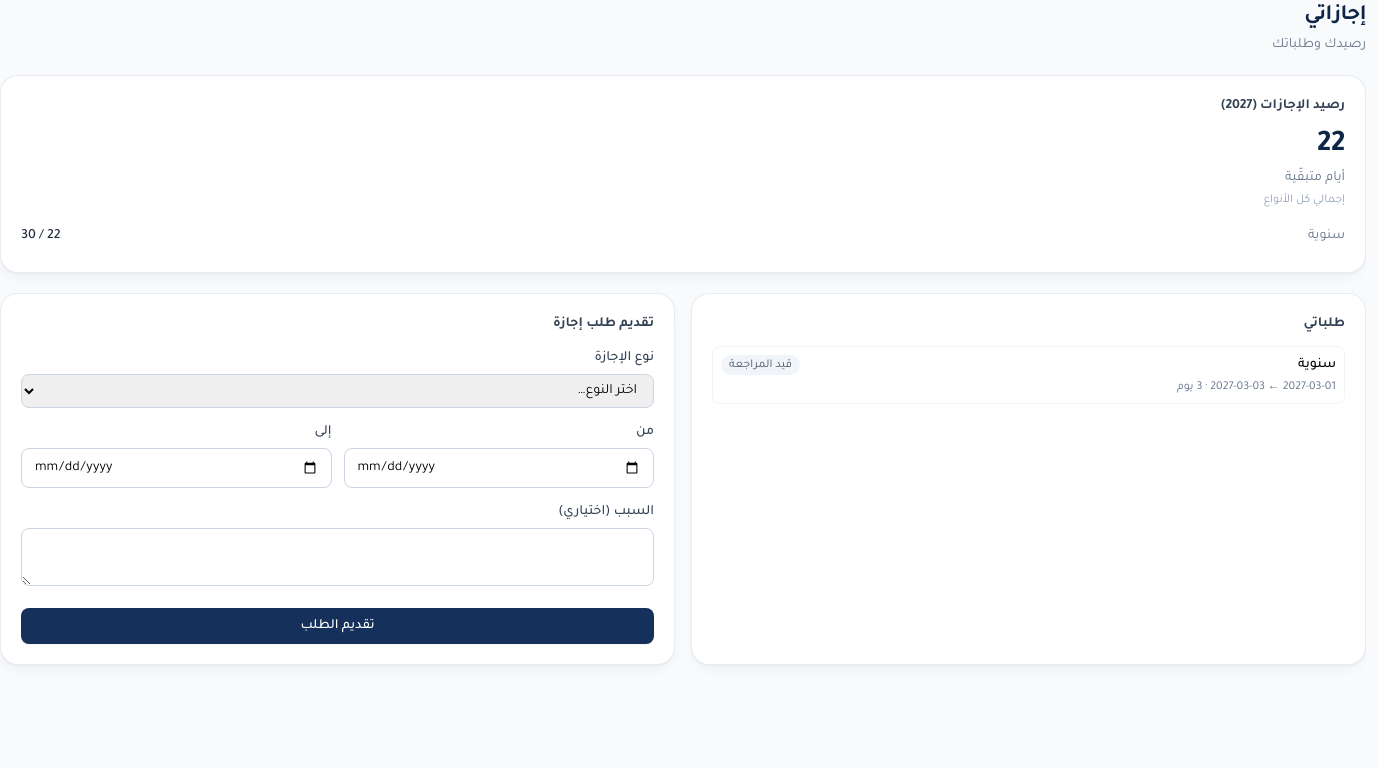
LeavePage › يعرض أخطاء التحقّق (422)
The width and height of the screenshot is (1378, 768).
Select "سنوية" in the dropdown labelled "نوع الإجازة" at [338, 391], box [21,374,654,408]
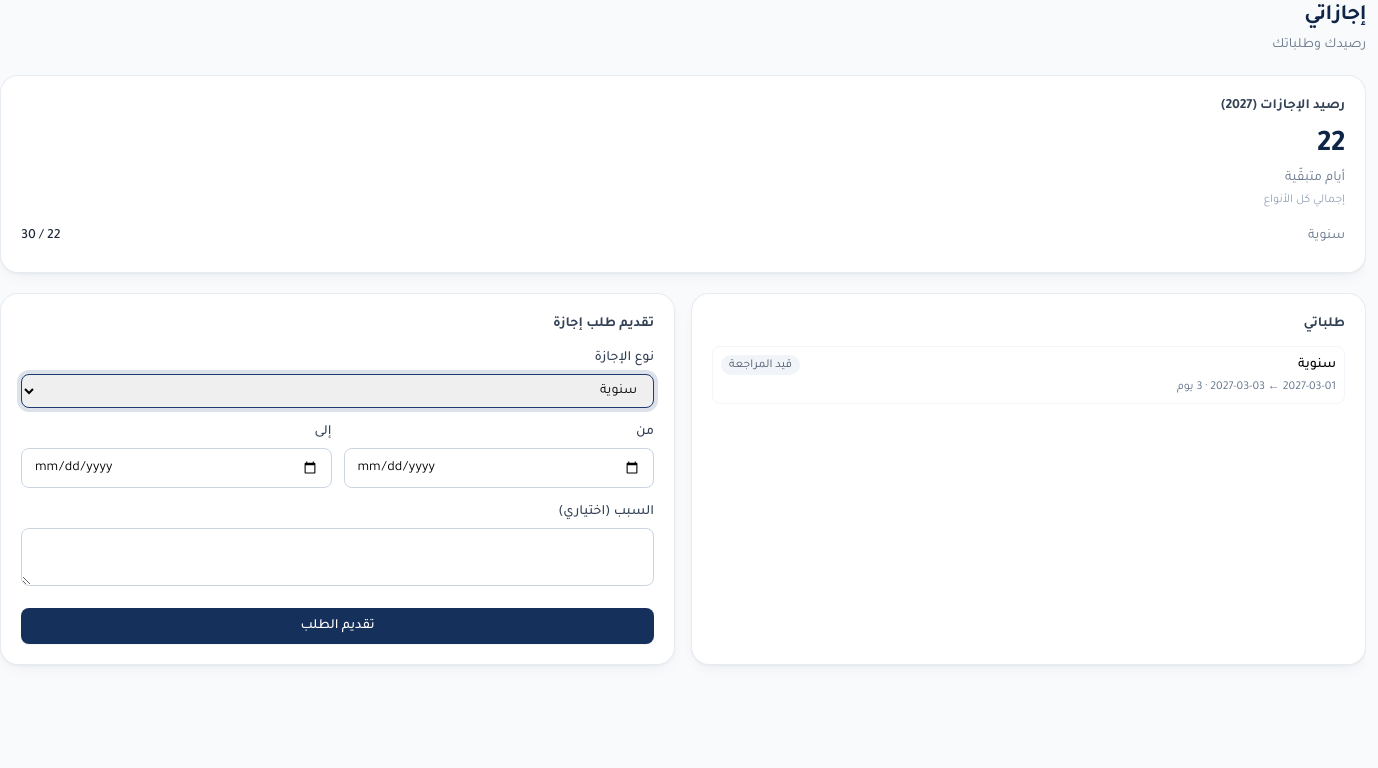
Type "2027-03-01" into the date field labelled "من" at [499, 468], box [344,448,654,488]
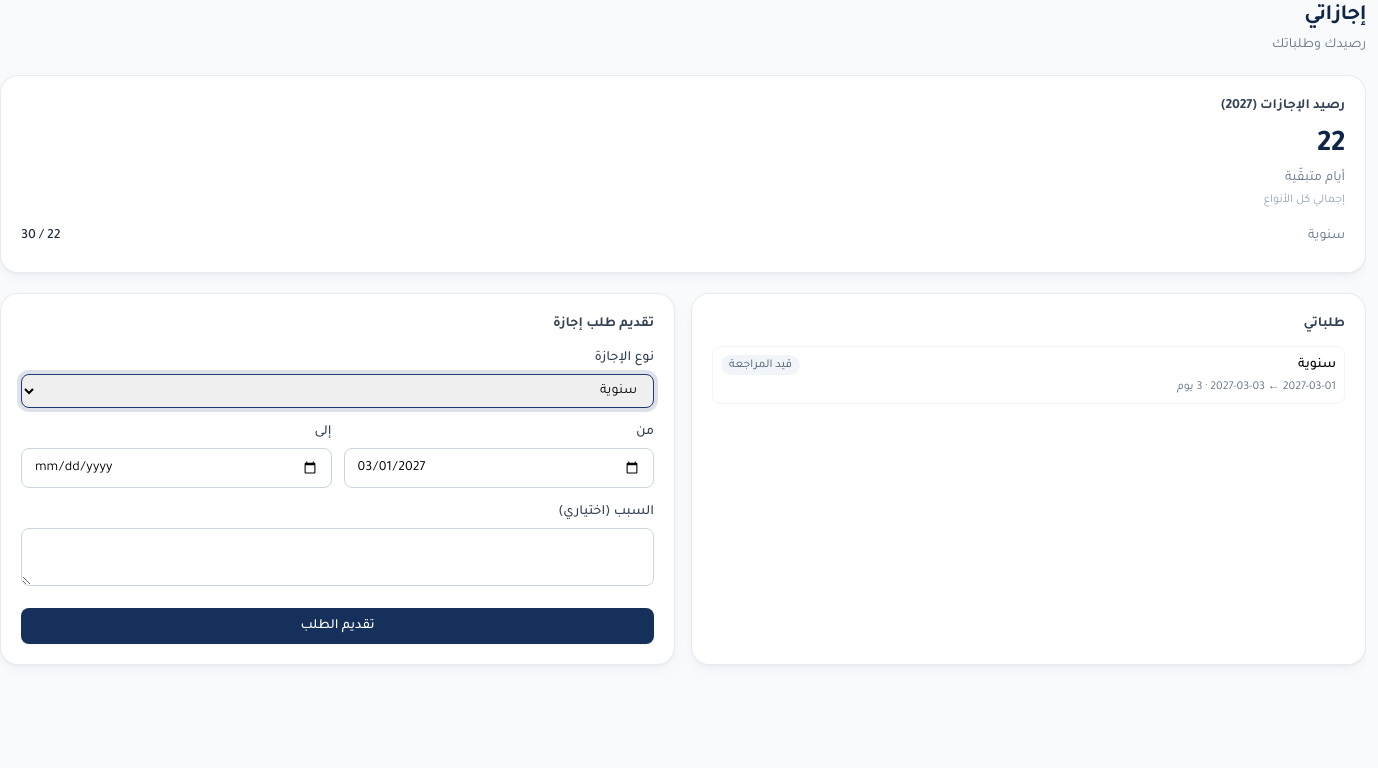
Type "2027-03-03" into the date field labelled "إلى" at [176, 468], box [21,448,332,488]
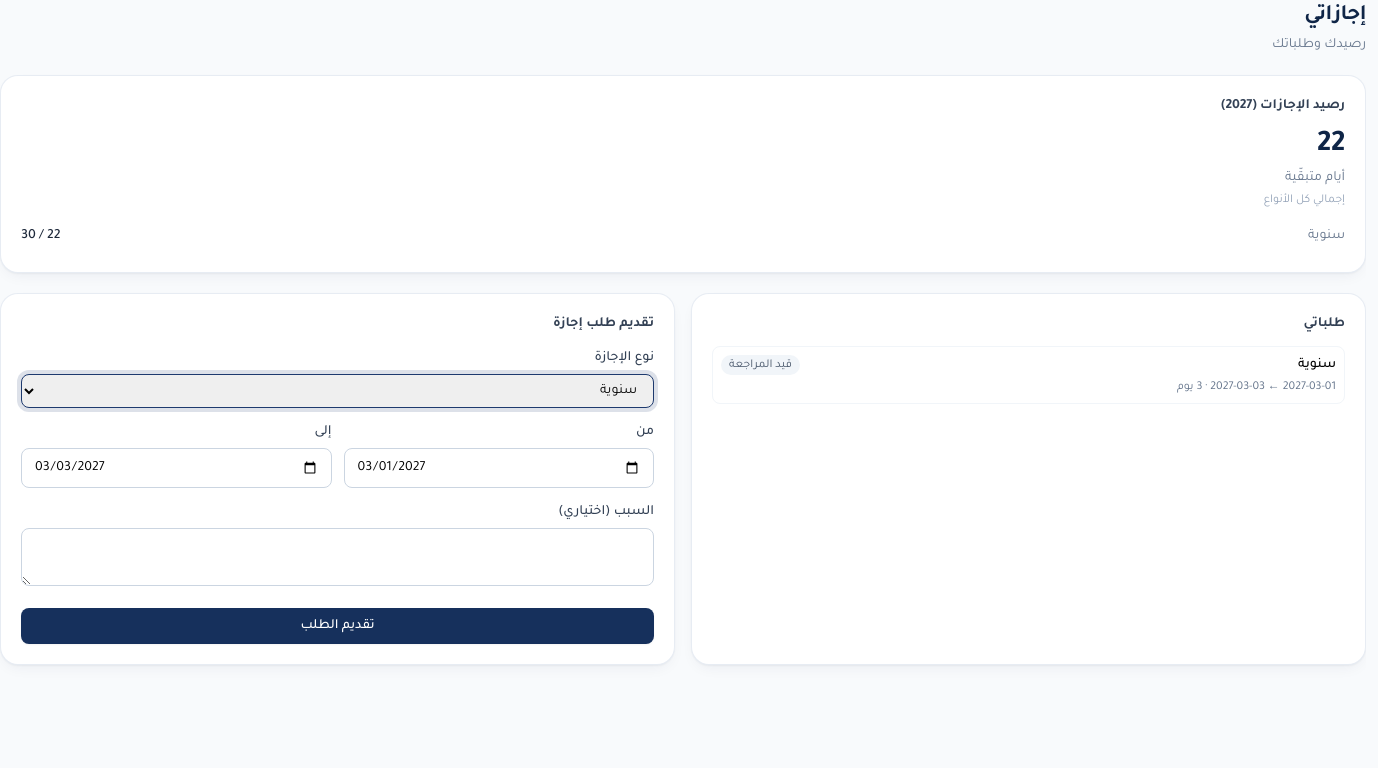
Click the button "تقديم الطلب" at [338, 626], box [21,608,654,644]
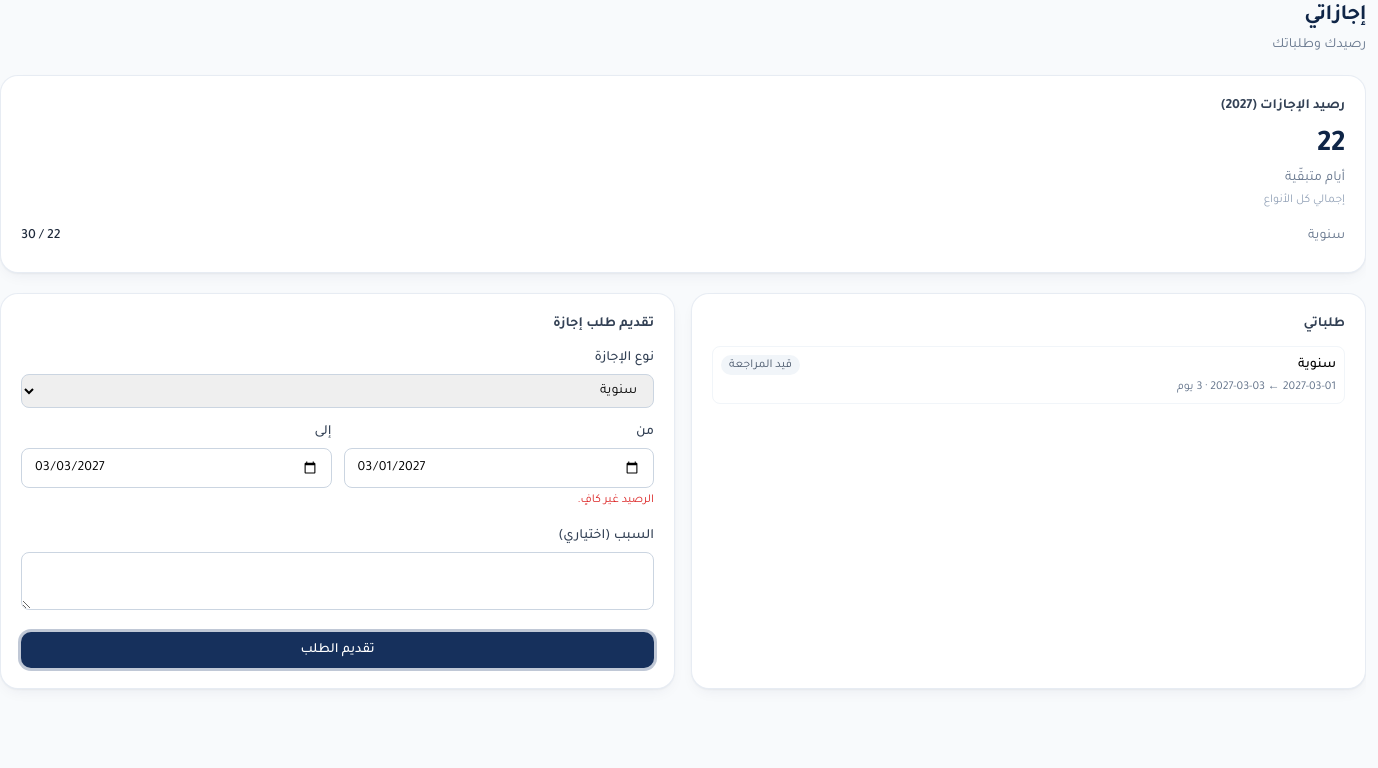
Expected: the text "الرصيد غير كافٍ." is shown, [577,494,654,506]
